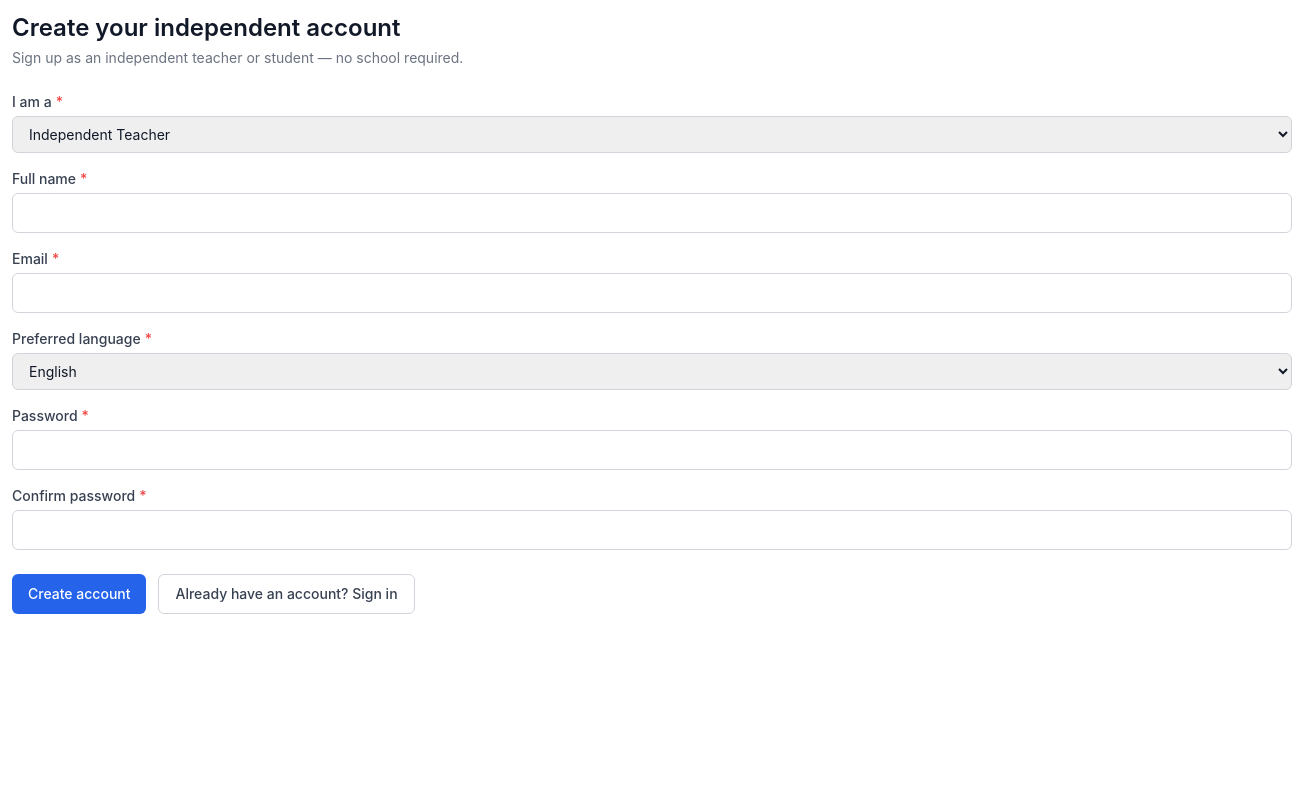
Test case: IndependentSignupClient (T-069) › submits signup and shows success
Expected: the heading "Create your independent account" is shown, x1=12 y1=13 x2=400 y2=42
Type "Test User" into the field labelled "Full name*".
click(652, 213); type("Test User")  # box x1=12 y1=193 x2=1292 y2=233
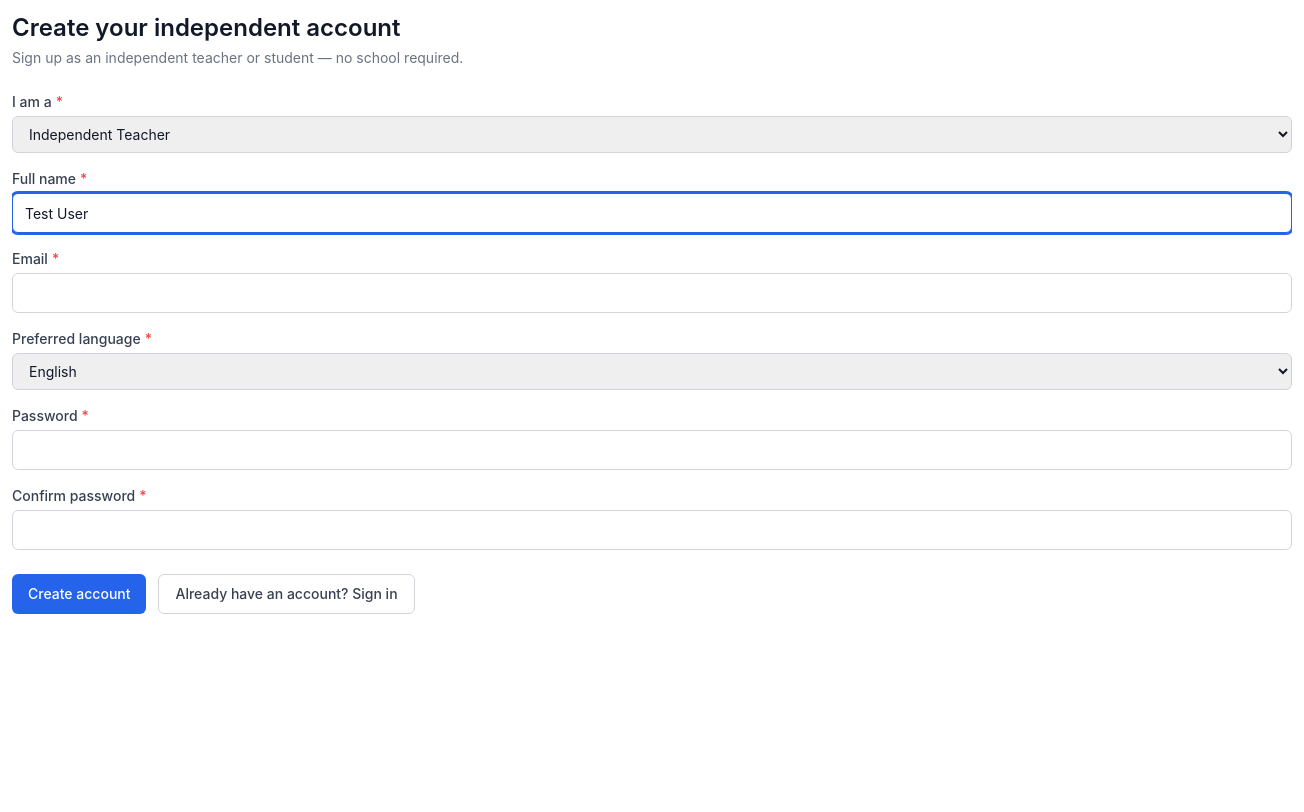
Type "test@example.com" into the field labelled "Email*".
click(652, 293); type("test@example.com")  # box x1=12 y1=273 x2=1292 y2=313
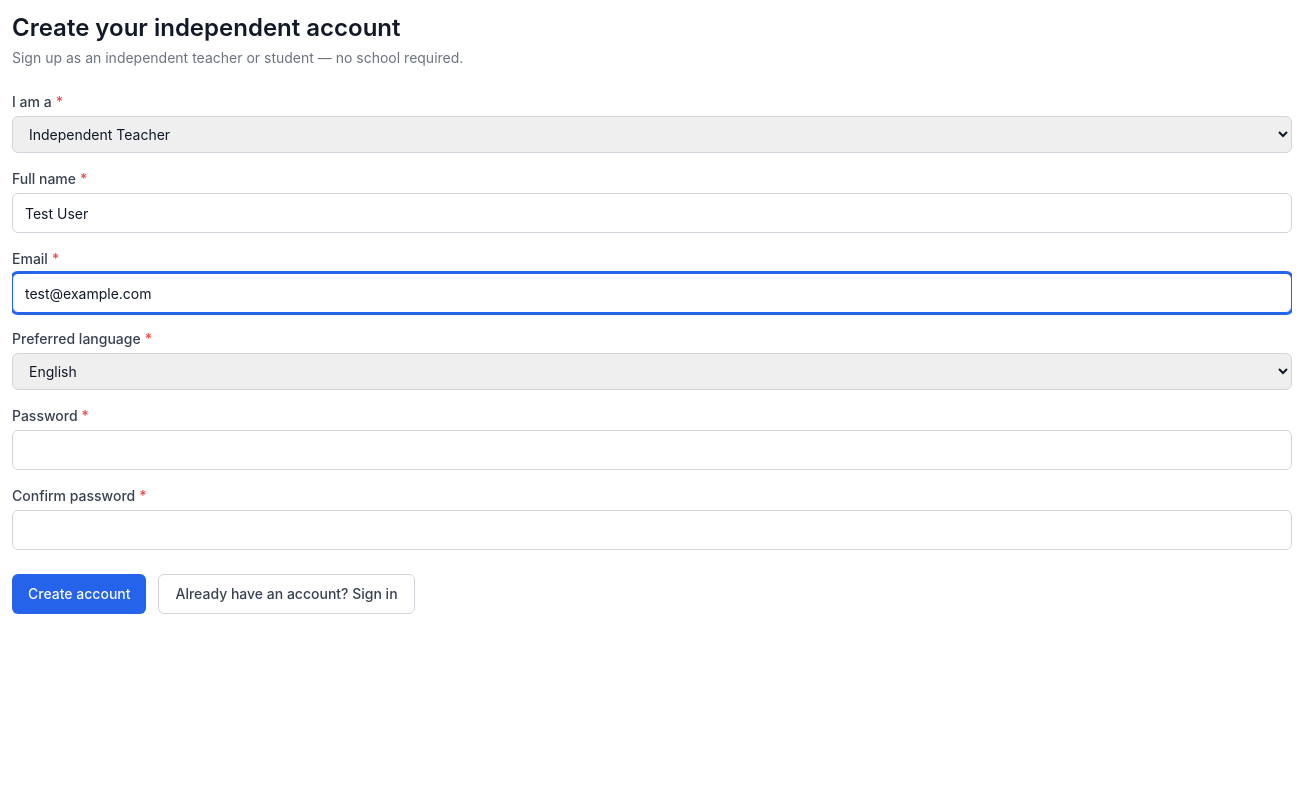
Type "password123" into the password field labelled "Password*".
click(652, 450); type("password123")  # box x1=12 y1=430 x2=1292 y2=470
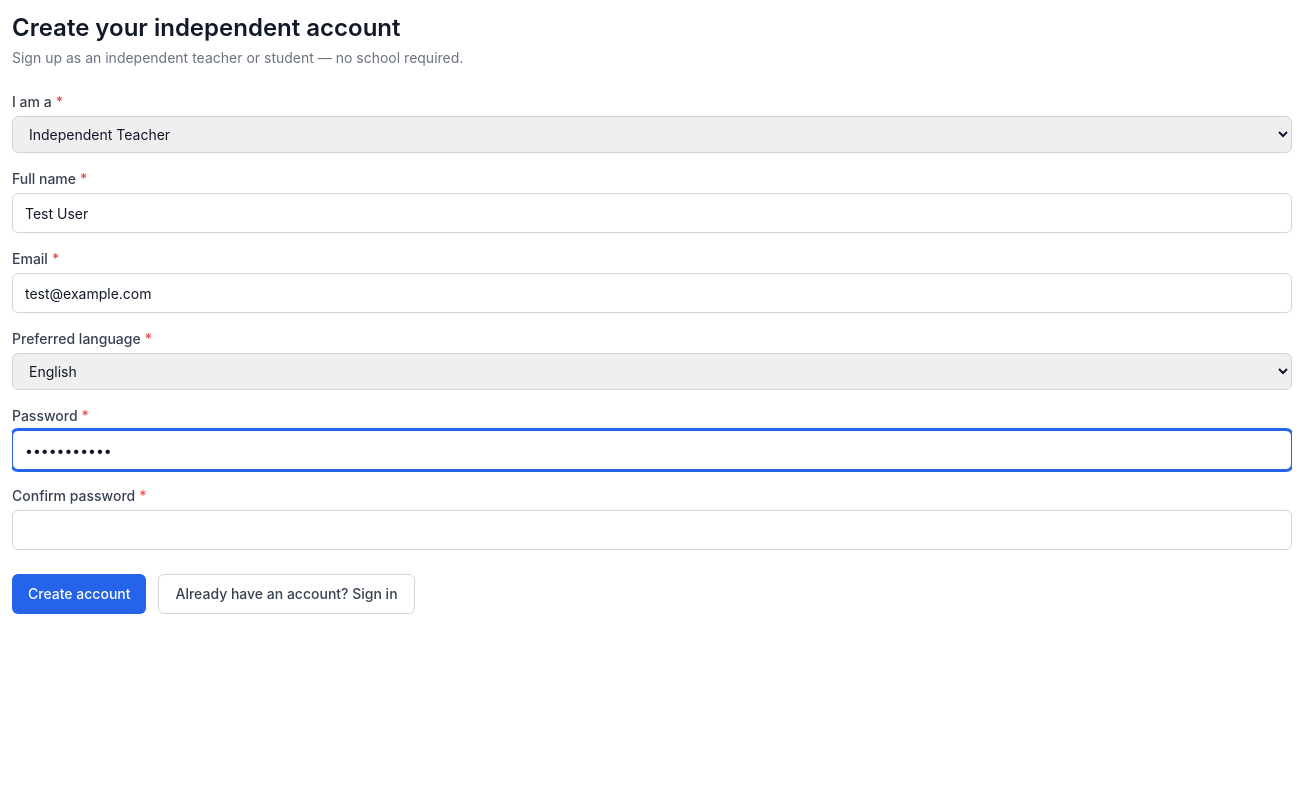
Type "password123" into the password field with id "confirm-password".
click(652, 530); type("password123")  # box x1=12 y1=510 x2=1292 y2=550
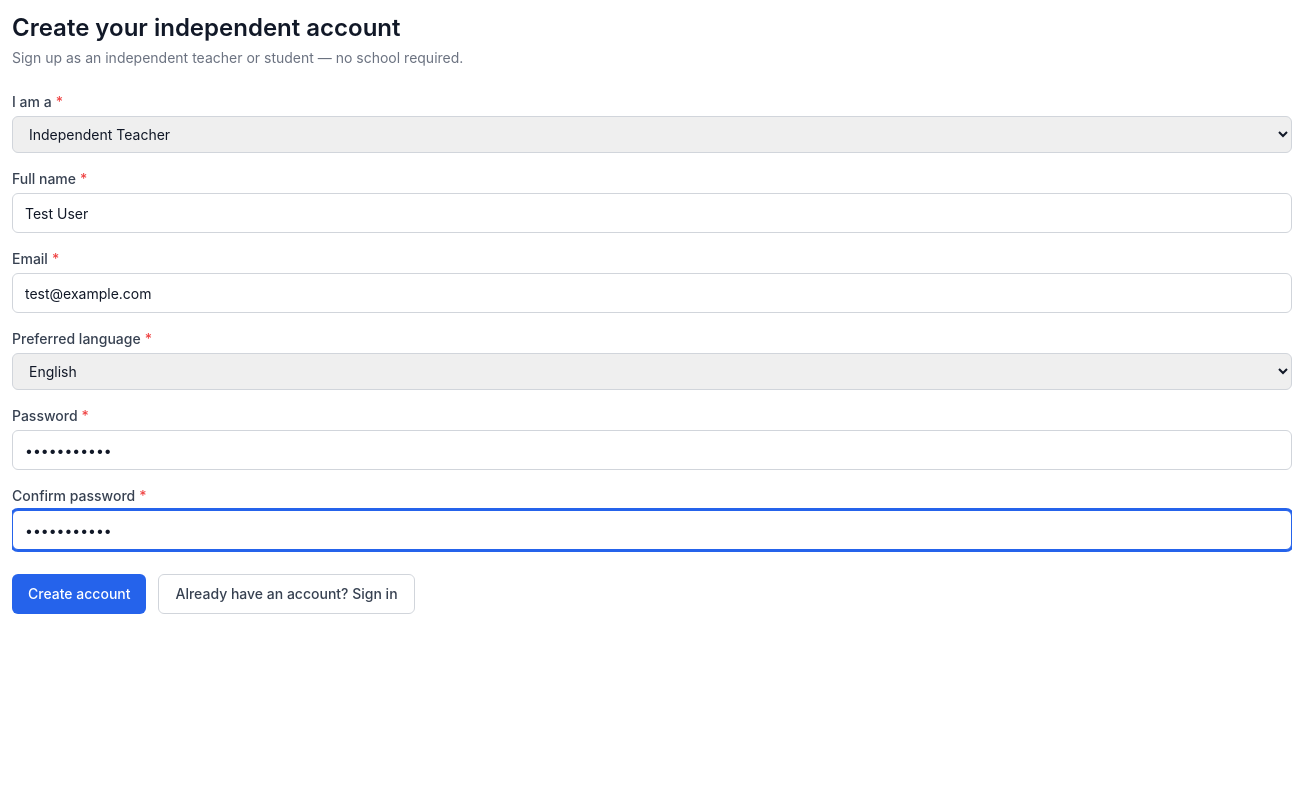
Click the button "Create account".
click(79, 594)  # box x1=12 y1=574 x2=146 y2=614
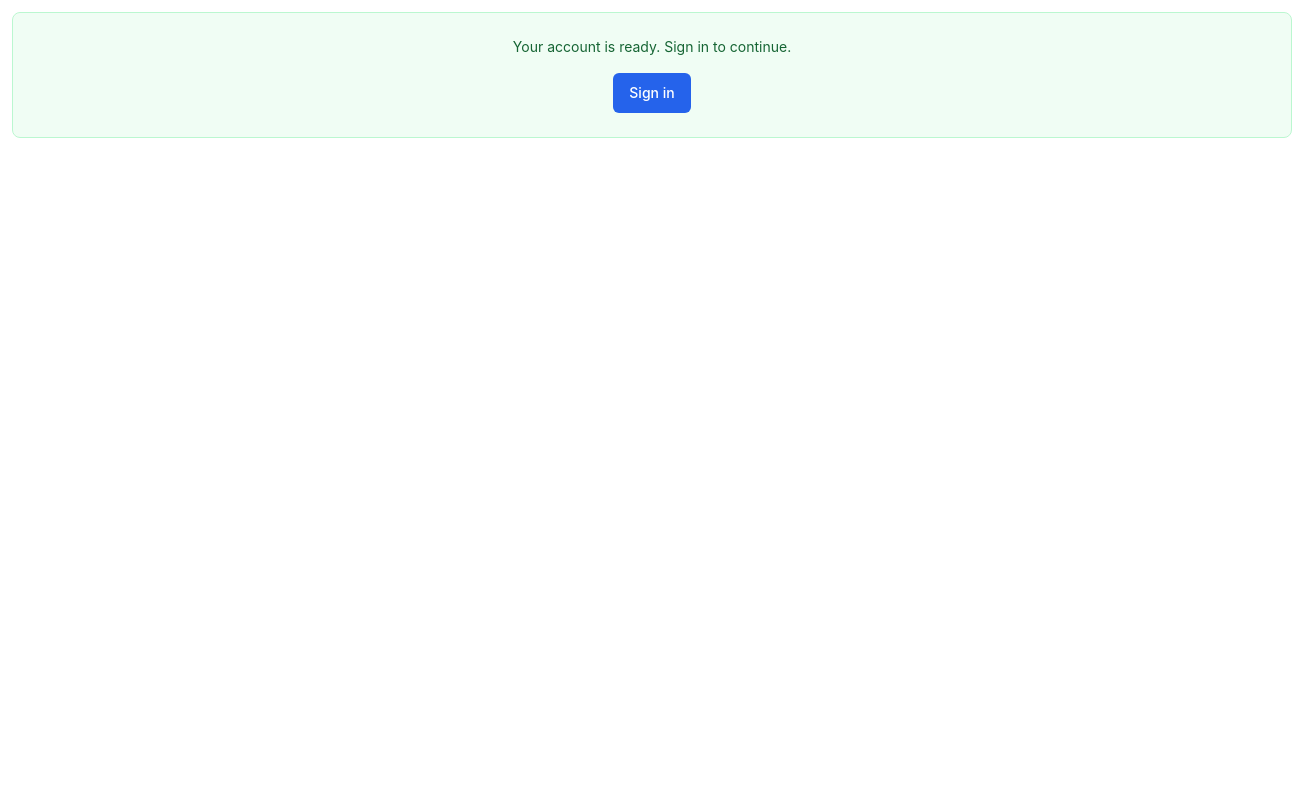
Result: the text "Your account is ready. Sign in to continue." is shown at x1=513 y1=38 x2=791 y2=55
